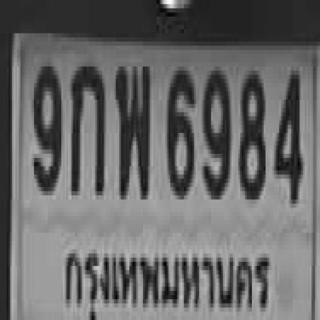A01: (70, 62, 104, 191)
A30: (114, 62, 148, 195)
N04: (274, 66, 301, 200)
N06: (165, 67, 192, 195)
N08: (238, 67, 264, 195)
N09: (32, 62, 60, 191), (201, 67, 228, 195)
P04: (57, 233, 274, 320)
